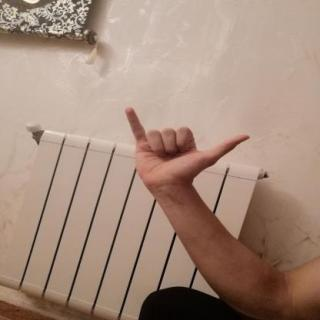YA: (115, 100, 260, 196)
